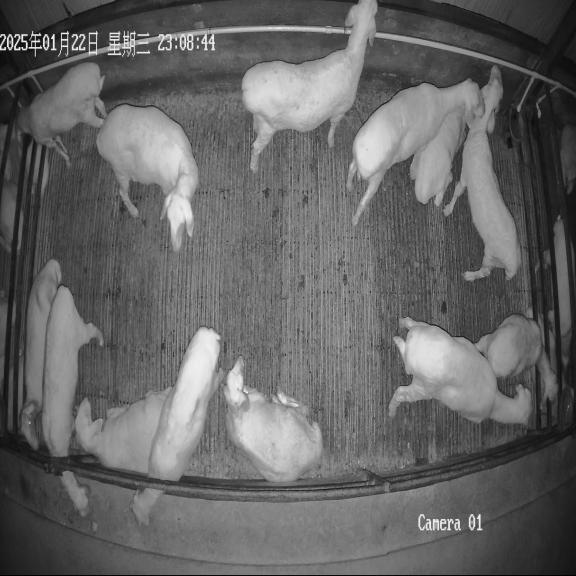drinking: (16, 62, 106, 166)
eating: (131, 326, 223, 523), (41, 285, 104, 516)
lying: (223, 356, 323, 482), (75, 387, 172, 473), (20, 259, 62, 450), (410, 108, 465, 206)
stand: (242, 0, 378, 172), (346, 79, 483, 225), (444, 65, 520, 281), (389, 317, 532, 424), (96, 104, 198, 253), (475, 315, 557, 401)
